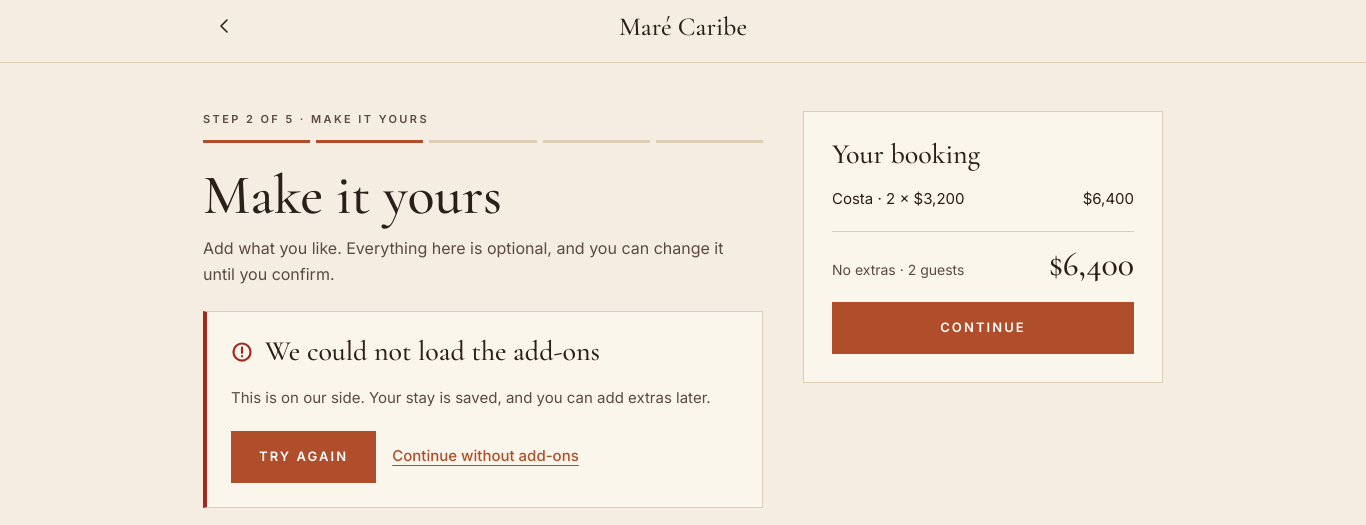
Test: Customise (step 2) and the add-ons step › shows an error panel offering to continue without add-ons
Expected: the message shows "We could not load the add-ons", [265,334,600,368]
Click the button "Continue without add-ons" at x=485, y=457, box [392,435,579,479]
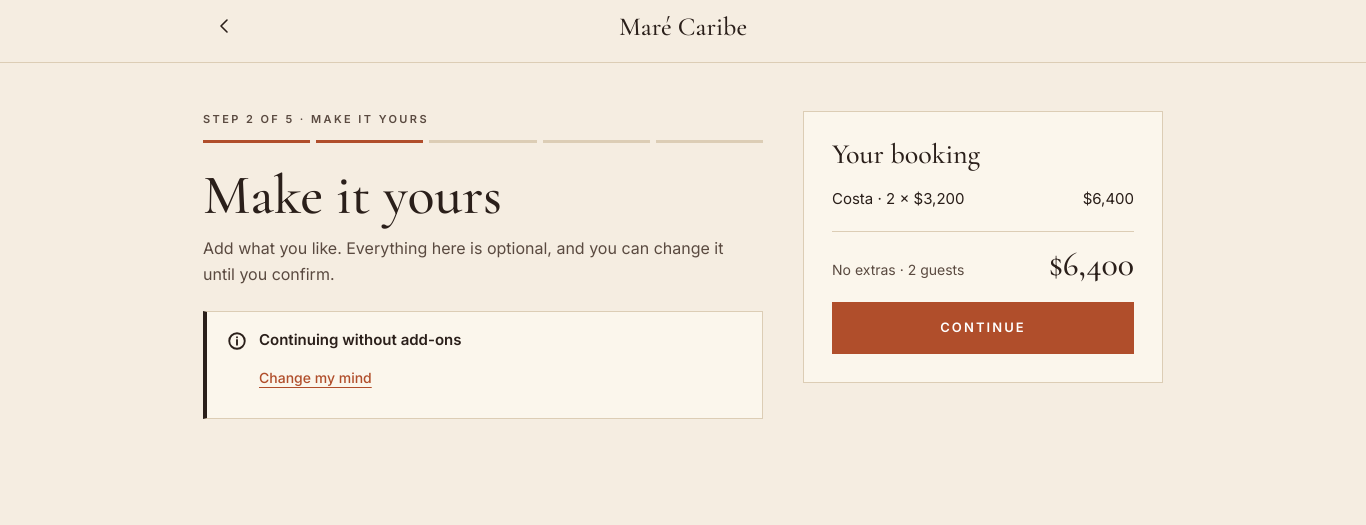
Expected: the message shows "Continuing without add-ons", [259,330,462,348]
